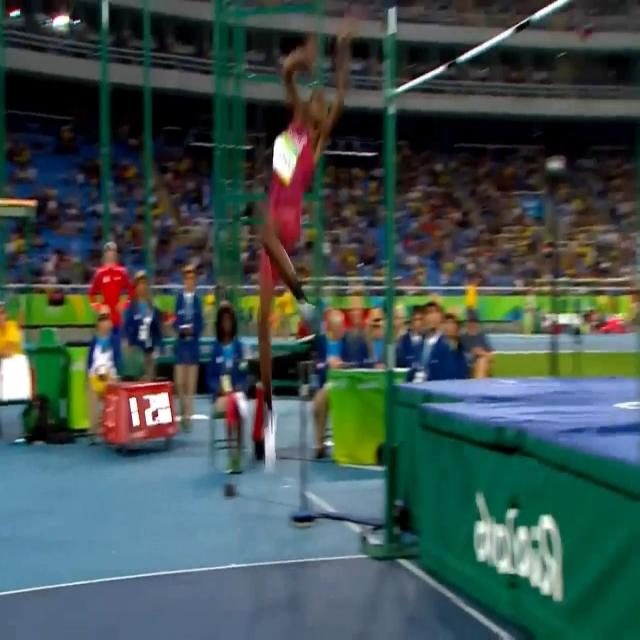jump: (257, 26, 353, 474)
